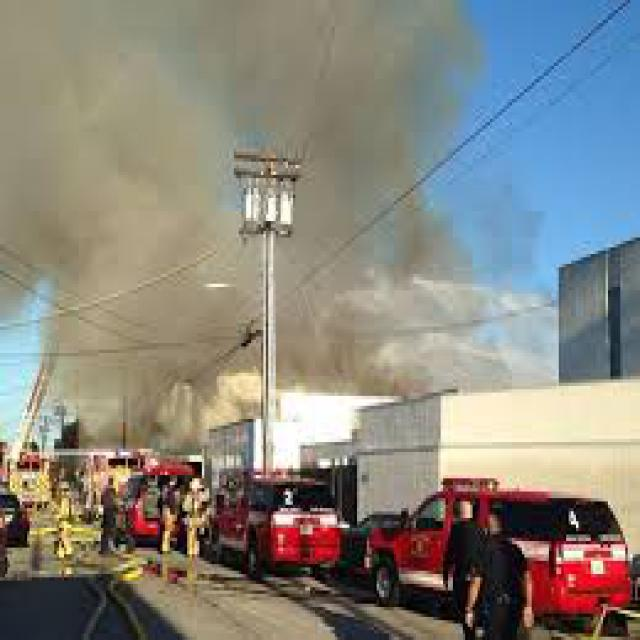smoke: (8, 3, 460, 386)
